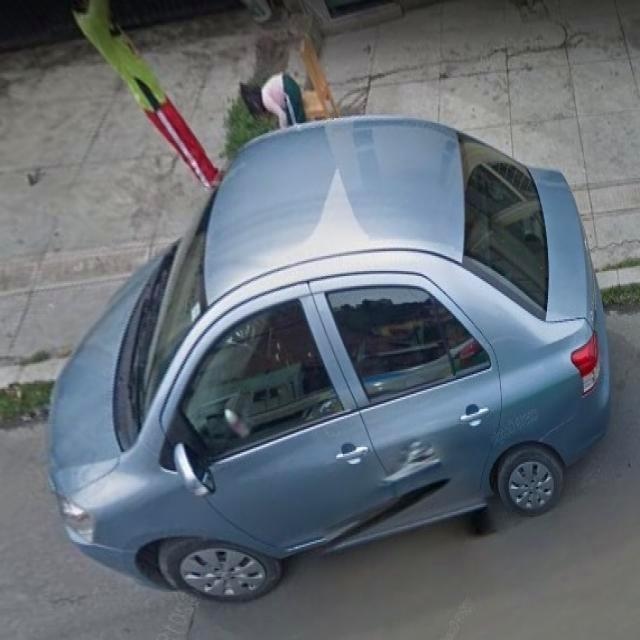Car: (46, 116, 607, 607)
